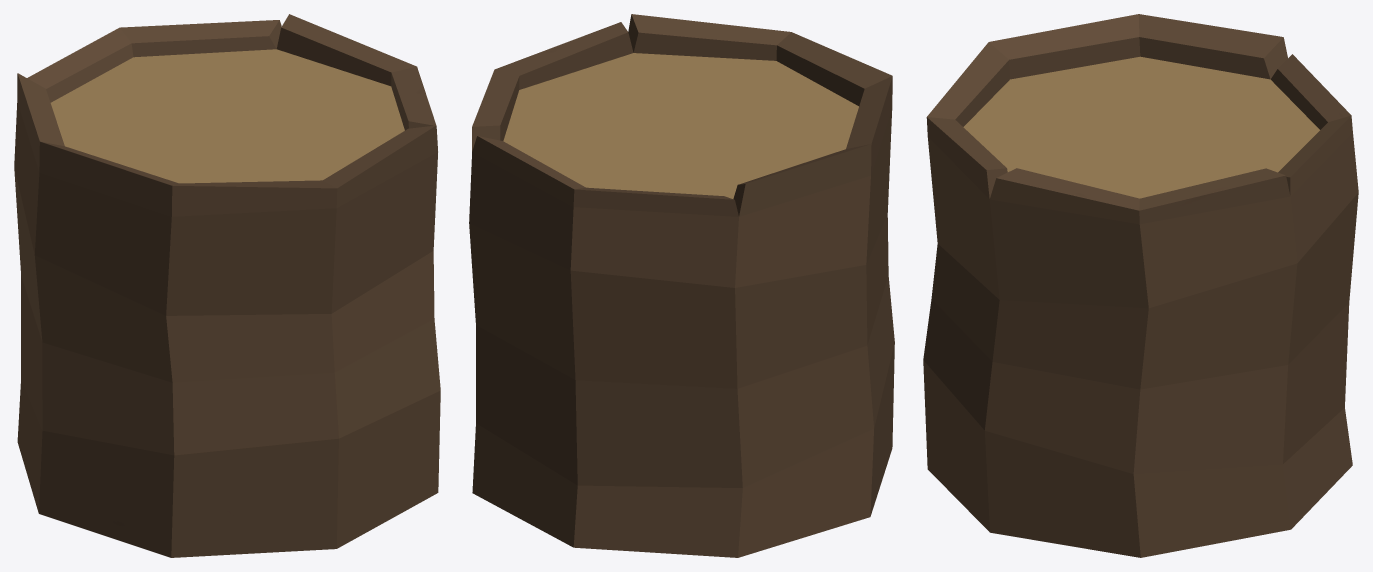
The model's file is Hub_TableLog.fbx.
The picture shows the model from 3 angles, left to right: view 1: azimuth 30°, elevation 25°; view 2: azimuth 150°, elevation 25°; view 3: azimuth 270°, elevation 25°; orthographic projection. The views are drawn at different scales.
Visible parts, largest first — view 1: DiceLog; view 2: DiceLog; view 3: DiceLog.
Part boxes in pixels (x1,y1,x2,y2): DiceLog: (14, 14, 440, 557); DiceLog: (469, 14, 894, 557); DiceLog: (923, 14, 1358, 557).
Bounding box in the file's own units: 91.91 × 87.49 × 94.07.
